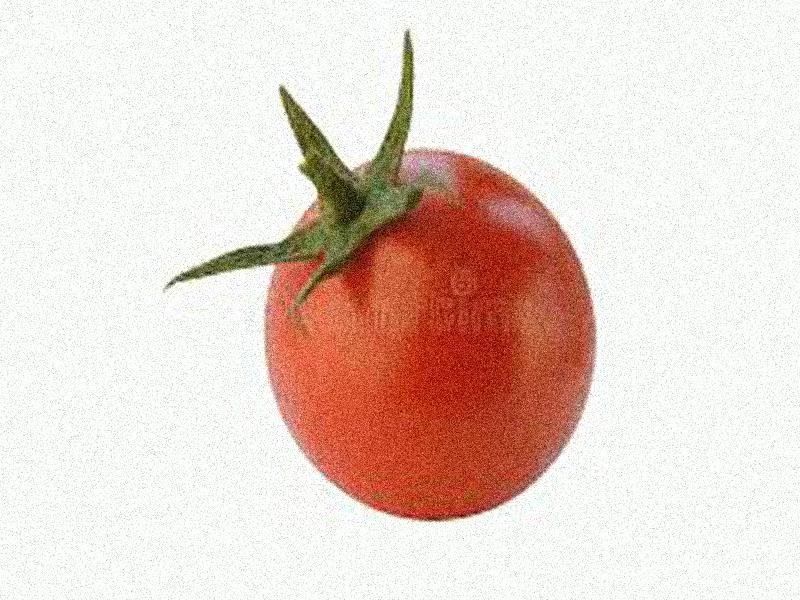Tomato: (268, 151, 596, 521)
